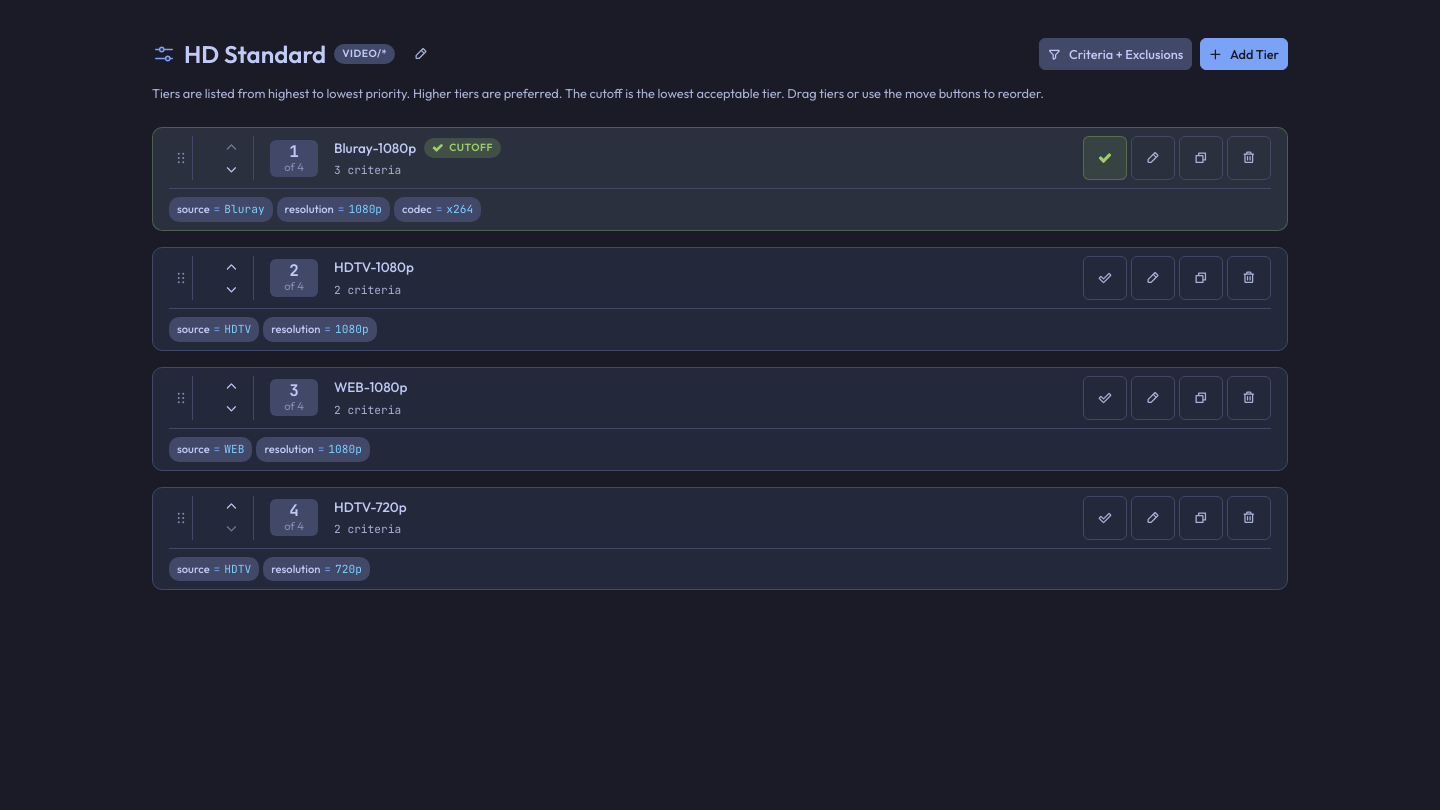
Test case: TierListDetailPage delete confirmation › closes confirmation dialog on cancel
Expected: the list item that starts with "Bluray-1080p" is shown, [152,127,1288,231]
Step 1. Click the button named "Delete Bluray-1080p" → point(1249, 158), box [1227,136,1271,180]
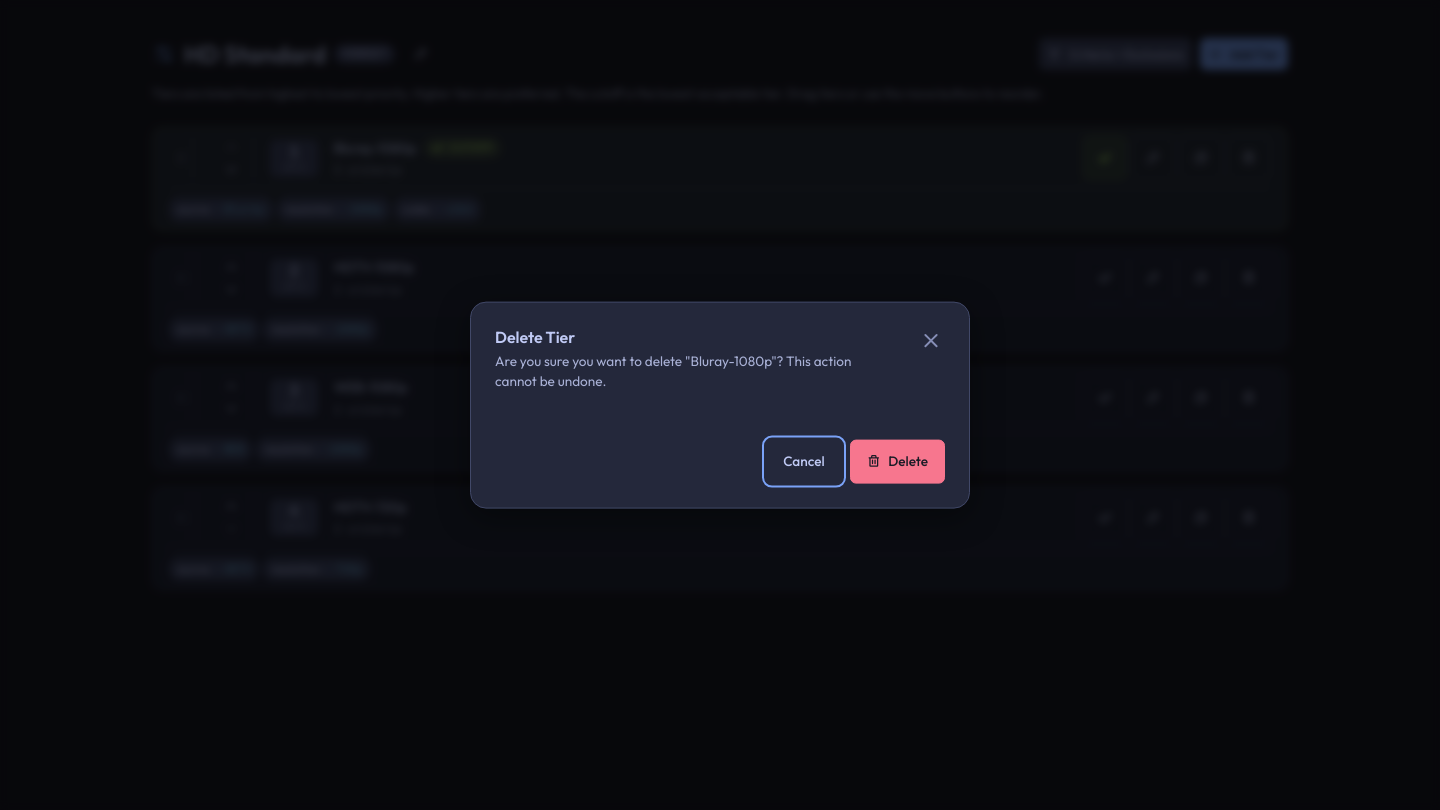
Expected: the heading "Delete Tier" is shown, [495,327,575,347]
Step 2. Click the button "Cancel" → point(804, 461), box [766,439,842,483]
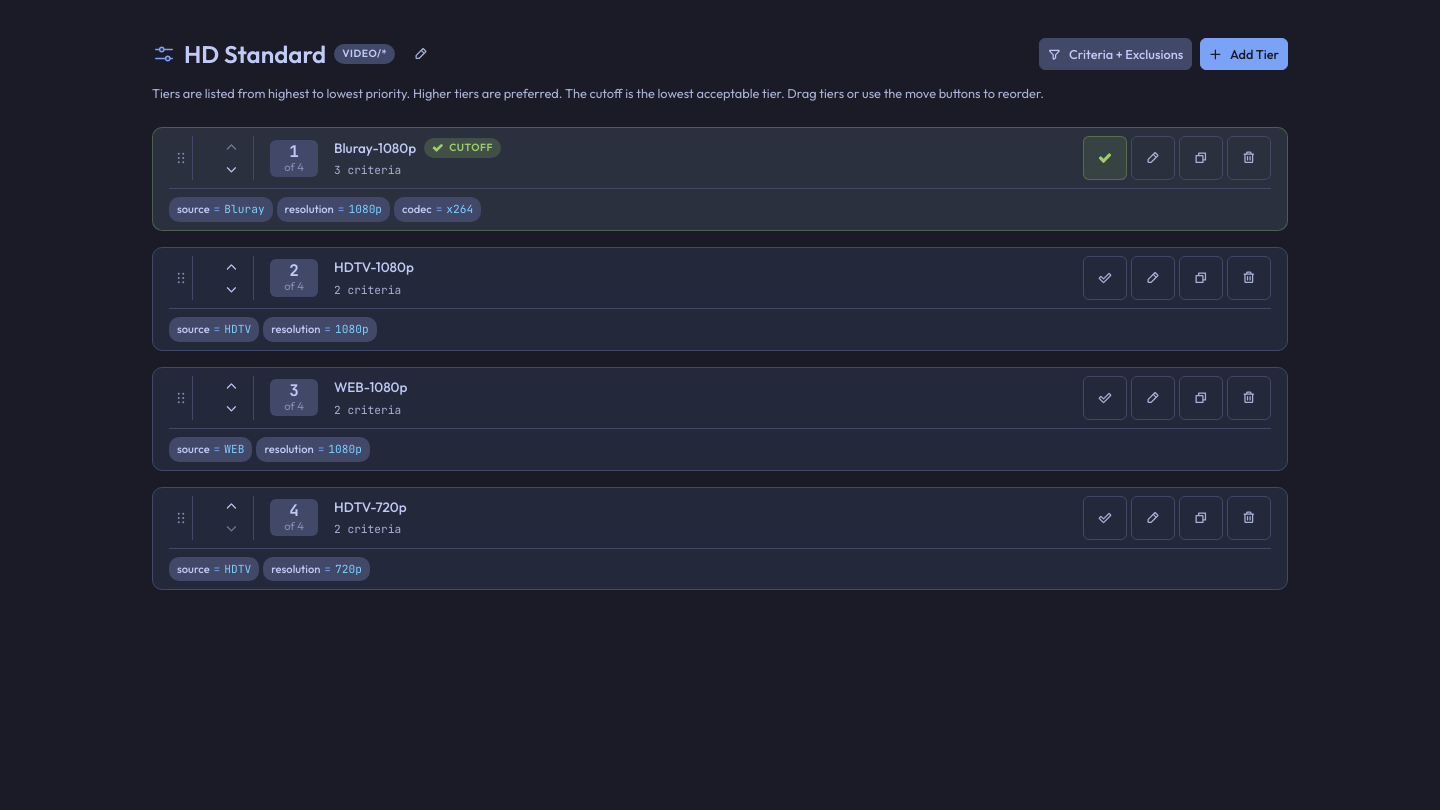
Expected: the heading "Delete Tier" is gone
